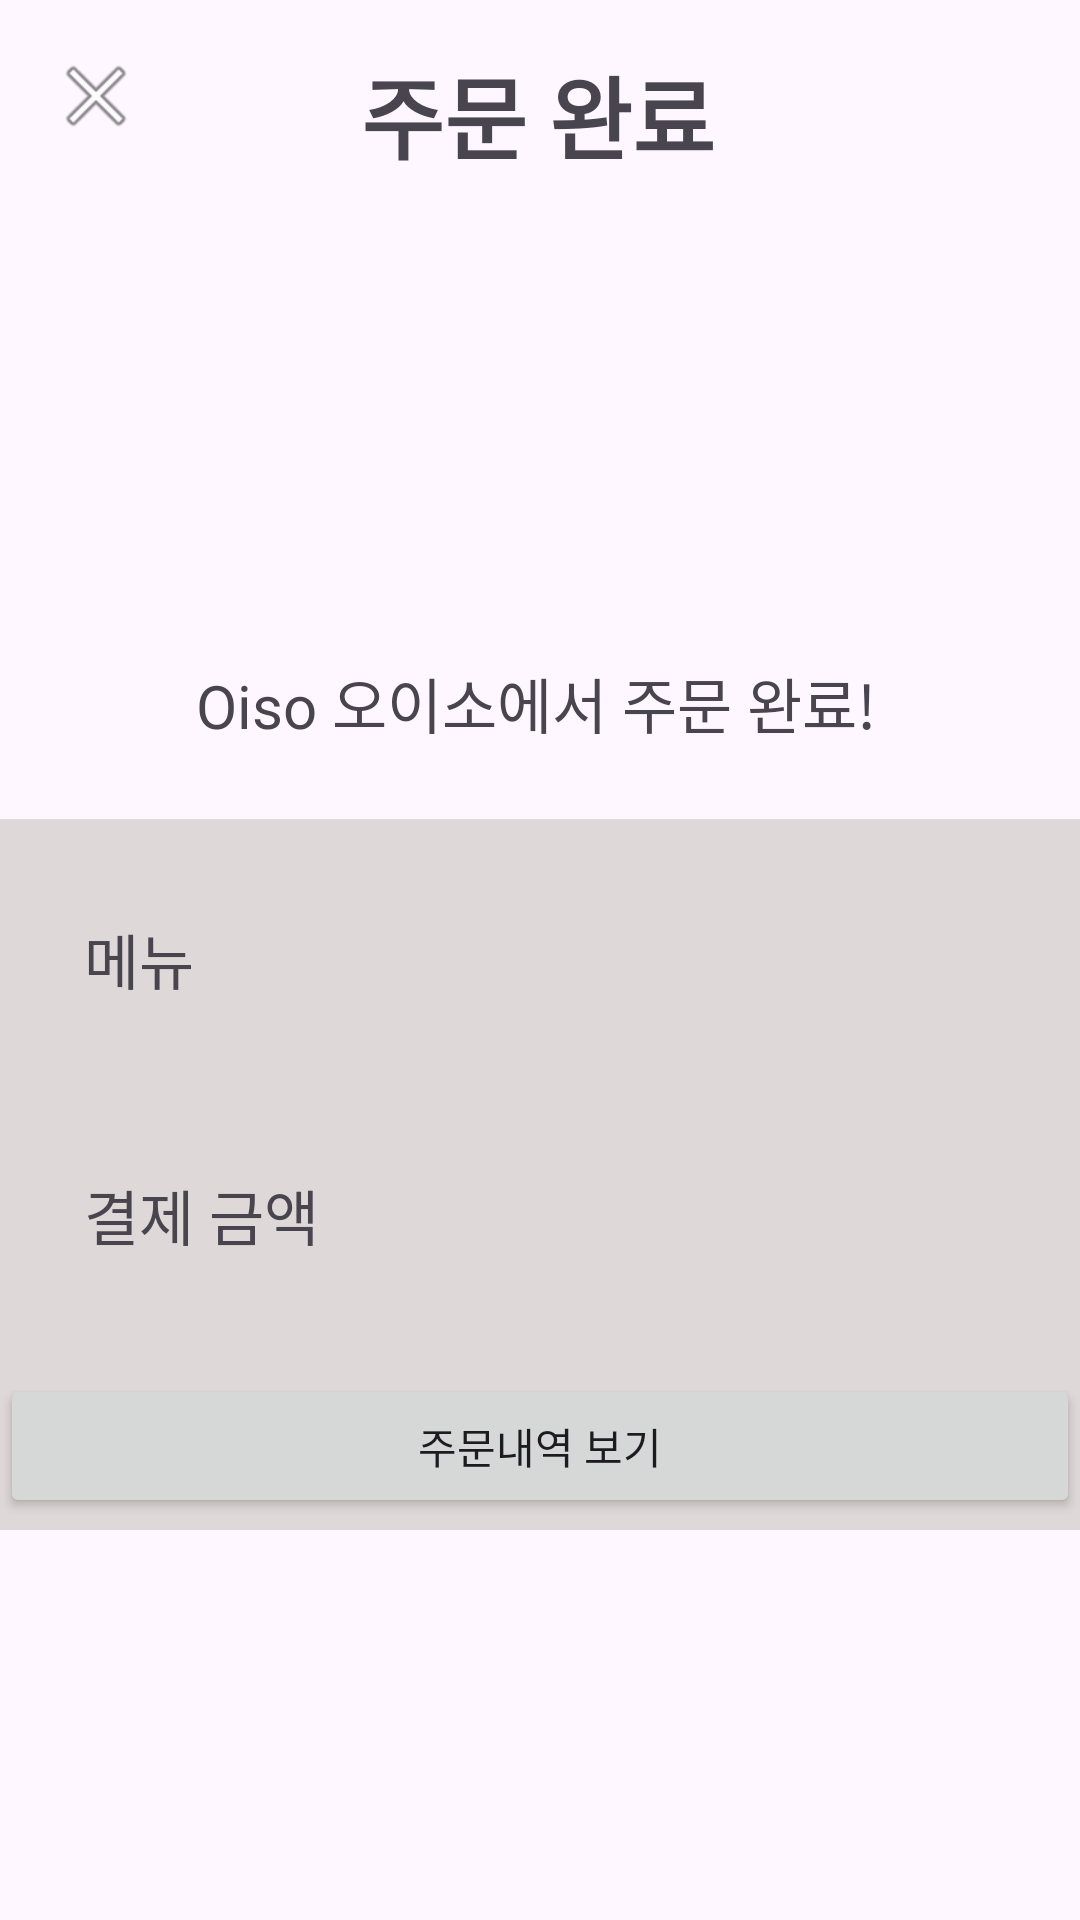

Icon bounding boxes for this 1080px×1920px phone screenshot, format (x1=x1, y1=y1, x2=x2, y2=y2):
close clear cancel: (x1=66, y1=66, x2=126, y2=126)
